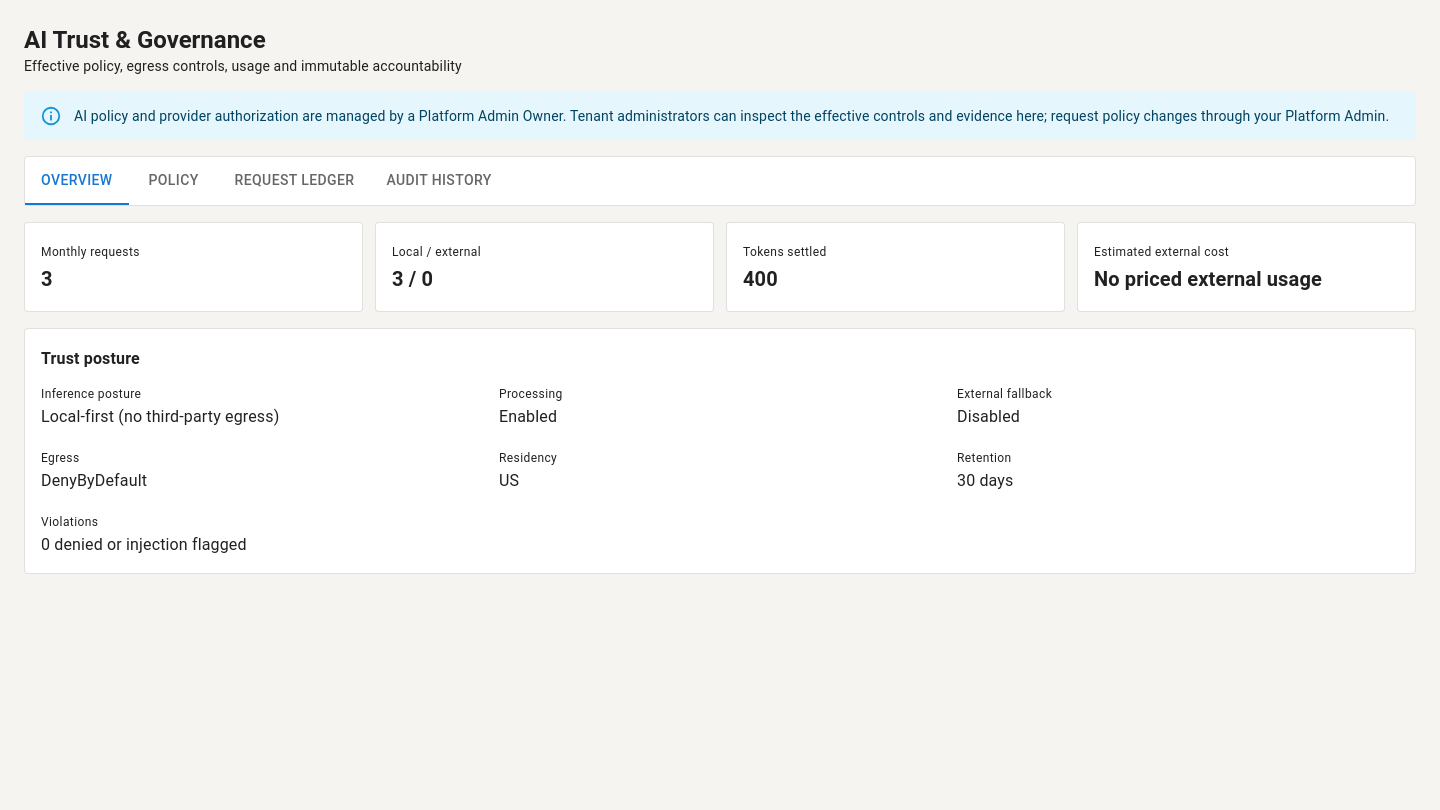
Test case: AiTrustCenterPage authority boundary › keeps governance evidence readable and directs changes to Platform Admin
The width and height of the screenshot is (1440, 810).
Expected: the text "AI policy and provider authorization are managed by a Platform Admin Owner" is shown, left=74, top=108, right=1389, bottom=124
Expected: the text "Local-first (no third-party egress)" is shown, left=41, top=407, right=279, bottom=426
Click the tab "Audit history".
click(439, 181)  # box left=370, top=157, right=508, bottom=205
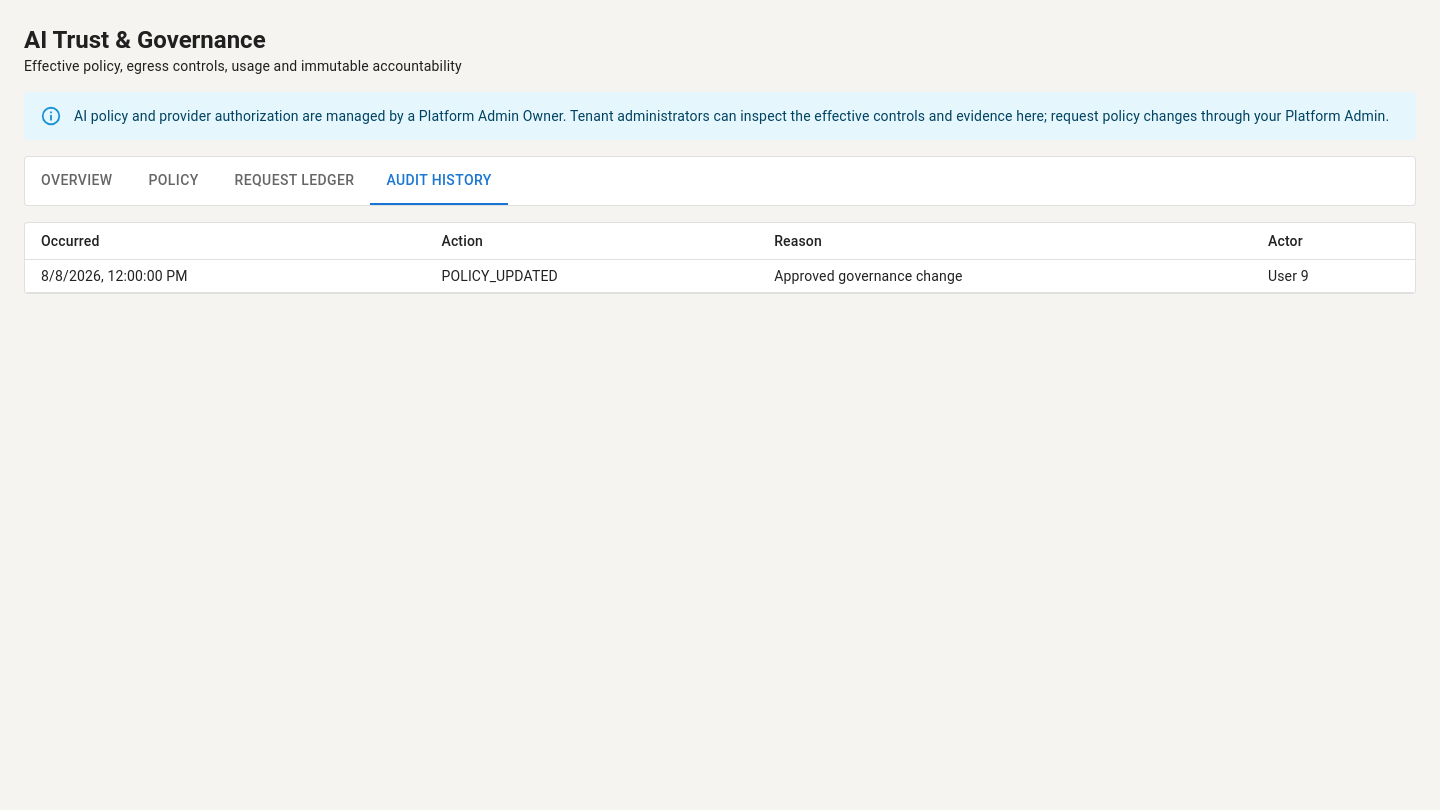
Result: the text "Approved governance change" is shown at left=758, top=260, right=1252, bottom=292
